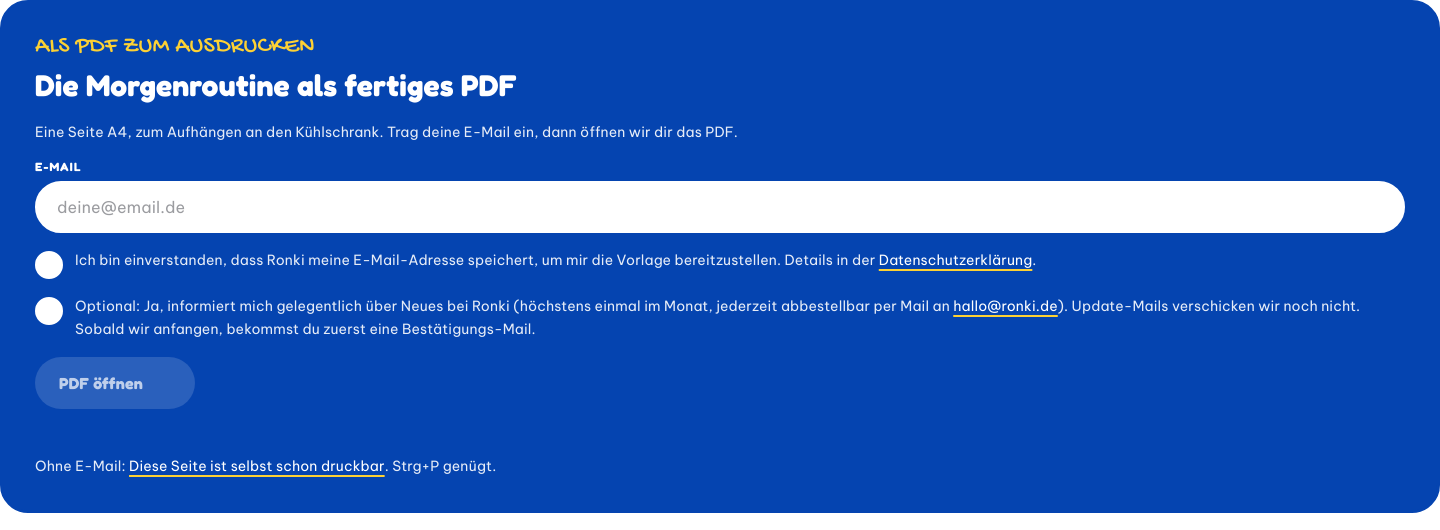
Test: VorlageDownload › shows the PDF link after a successful submission
In the field labelled "E-Mail": {"x": 720, "y": 207} [35,181,1405,233], type "marc@example.com"
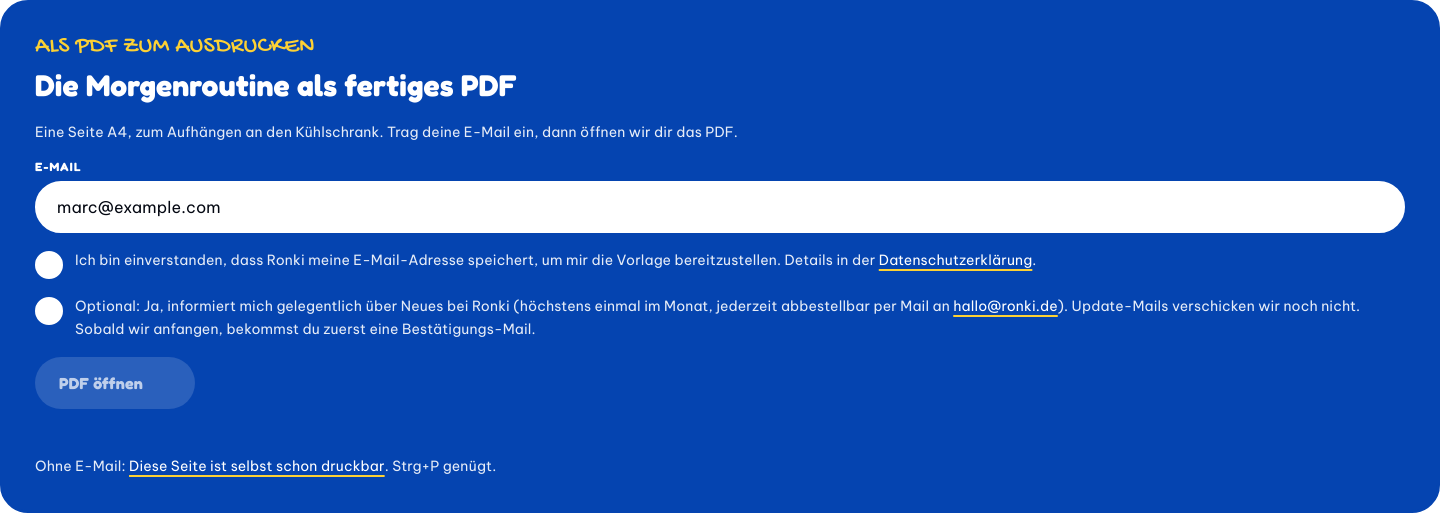
Click the 1st checkbox: {"x": 49, "y": 265} [35,251,63,279]
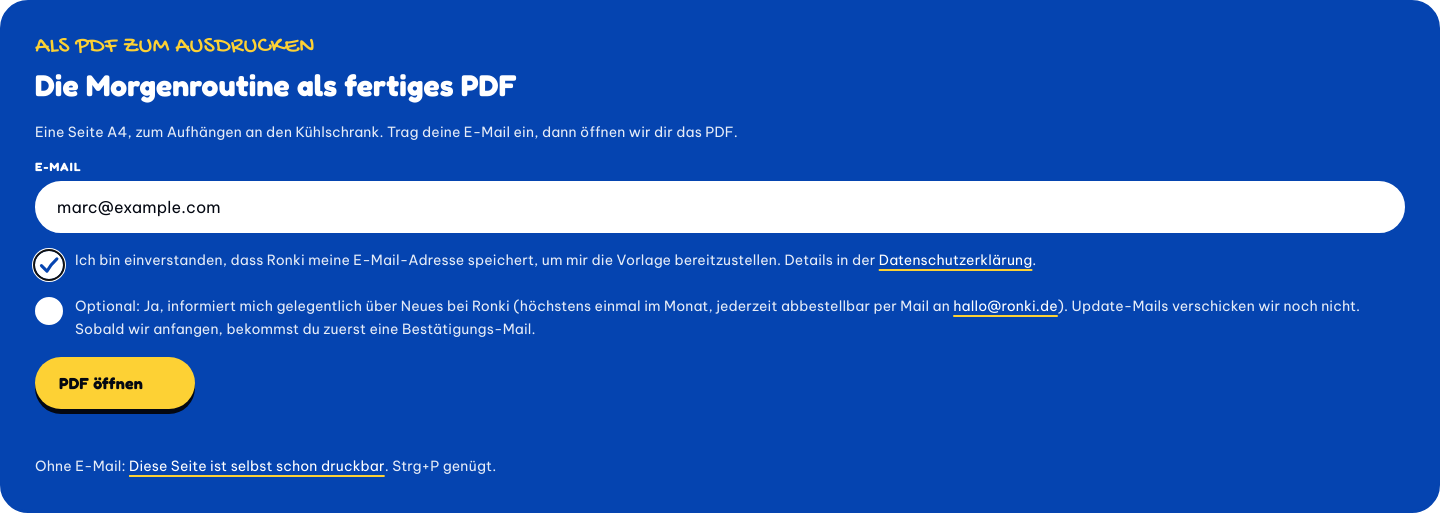
Click the button "PDF öffnen": {"x": 115, "y": 383} [35,357,195,409]
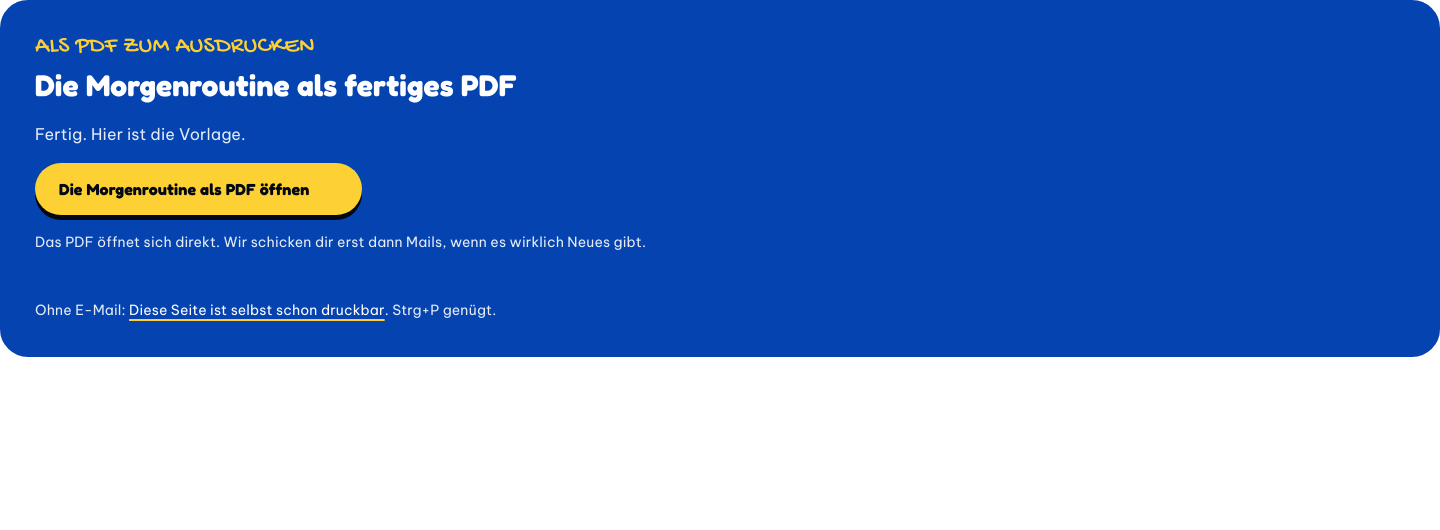
Check: the text "Das PDF öffnet sich direkt" is shown, box [35,232,646,250]
